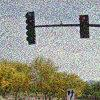traffic lights: (26, 12, 36, 45), (79, 16, 89, 39)
